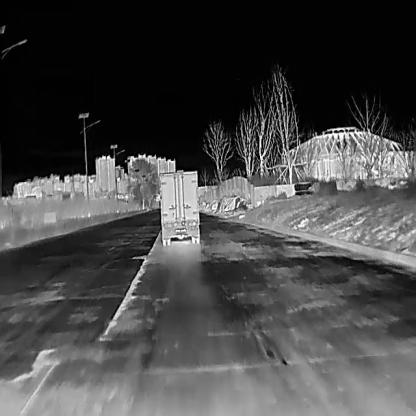truck: (158, 170, 200, 245)
